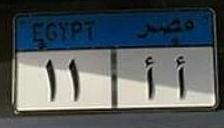1: (70, 55, 79, 102), (46, 59, 54, 102)
alif: (170, 53, 187, 100), (142, 51, 157, 100)
